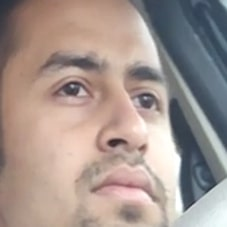awake: (28, 48, 175, 227)
